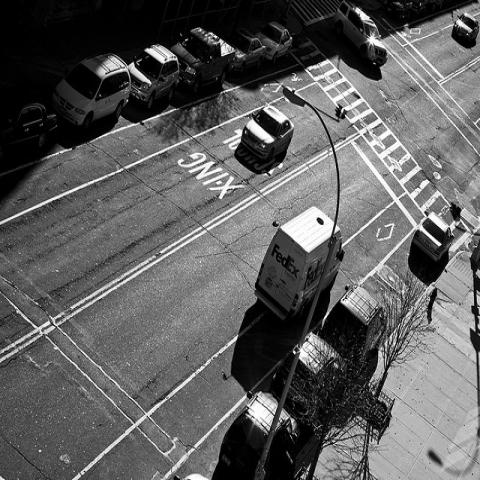car: (216, 389, 302, 479), (269, 331, 347, 427), (321, 283, 391, 378), (53, 52, 132, 129), (128, 43, 181, 108), (241, 102, 294, 164), (1, 100, 59, 155), (410, 211, 455, 271), (228, 28, 266, 74), (254, 21, 293, 65), (453, 14, 479, 50)
truck: (252, 205, 346, 326), (210, 392, 298, 479), (169, 27, 236, 108), (331, 0, 388, 71)
